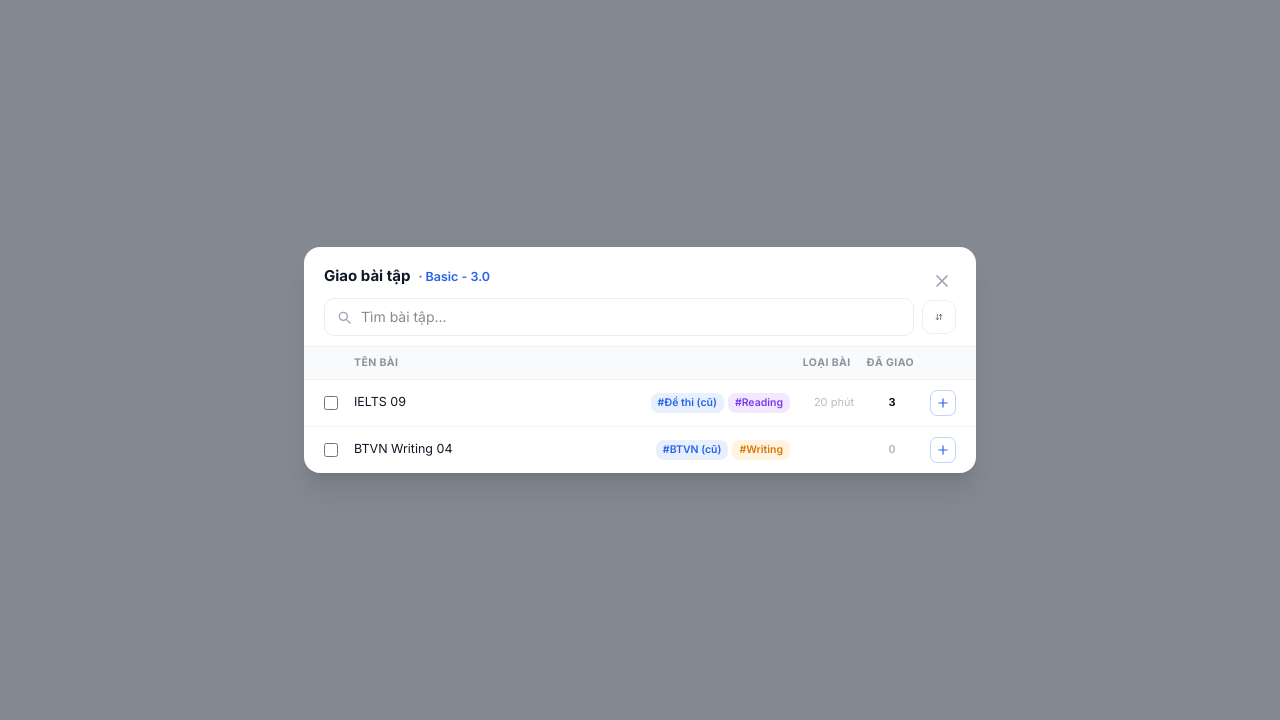
Test: QuickAssignDialog › counts repeat presses so the teacher sees what they just assigned
Click the button with test id "quick-assign-add-s1": (943, 403) [930,390,956,416]
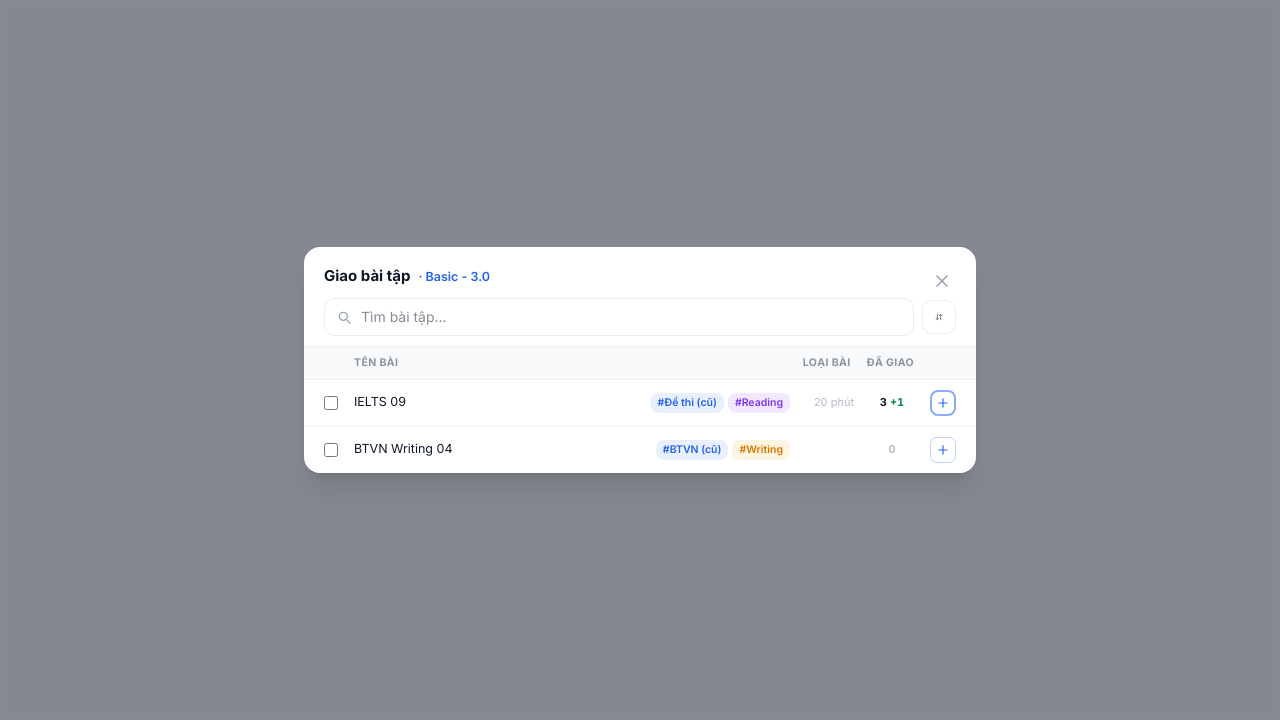
Now the text with test id "quick-assign-extra-s1" reads "+1", box [890,394,904,411]
Click the button with test id "quick-assign-add-s1": (943, 403) [930,390,956,416]
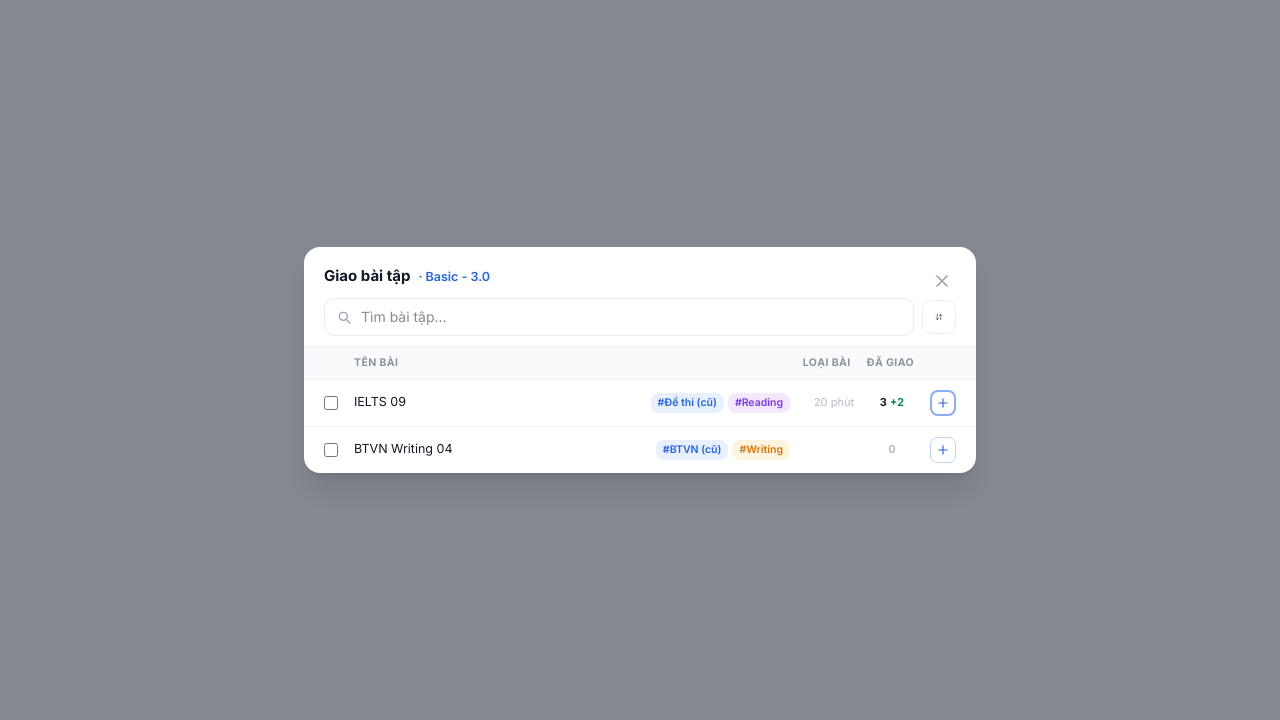
Now the text with test id "quick-assign-extra-s1" reads "+2", box [890,394,904,411]
